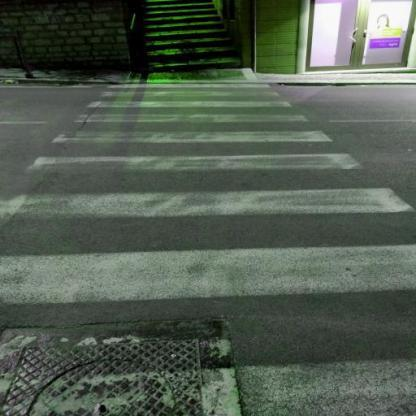crosswalk: (22, 128, 370, 180), (82, 90, 296, 112)
